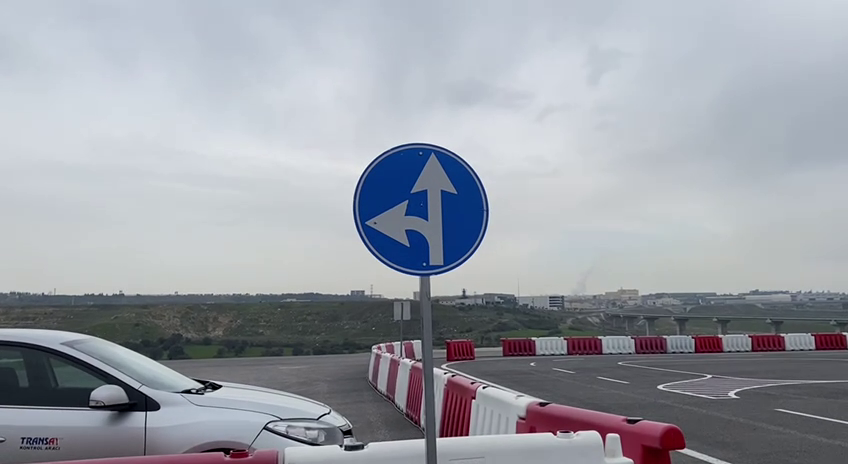forwardAndLeft: (348, 137, 495, 280)
